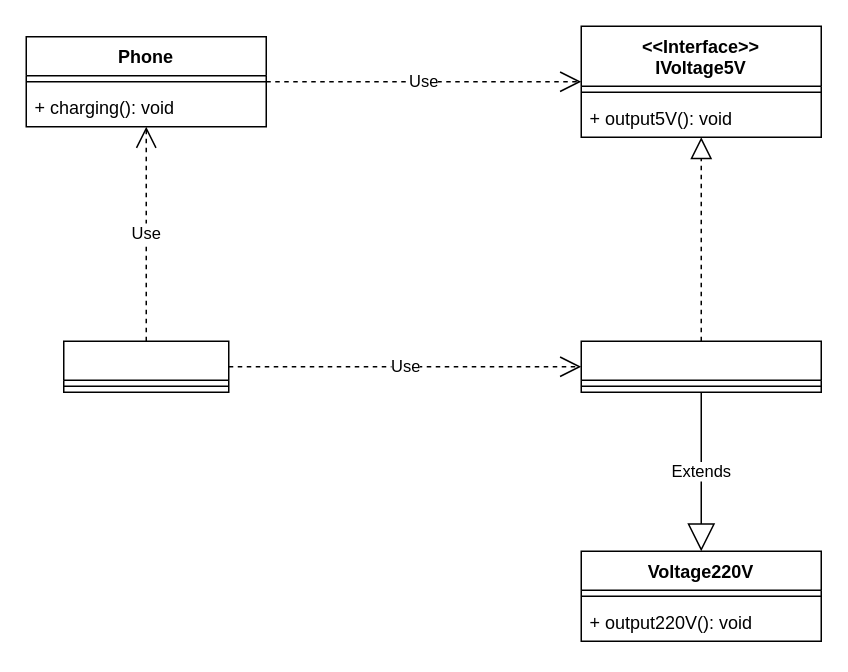
This 848x672 diagram has some shape labels left out. Here are the shapes that lost their labels. From the top down, the box of each, then its label:
(62, 340, 229, 392): Client
(580, 340, 821, 392): VoltageAdapter
